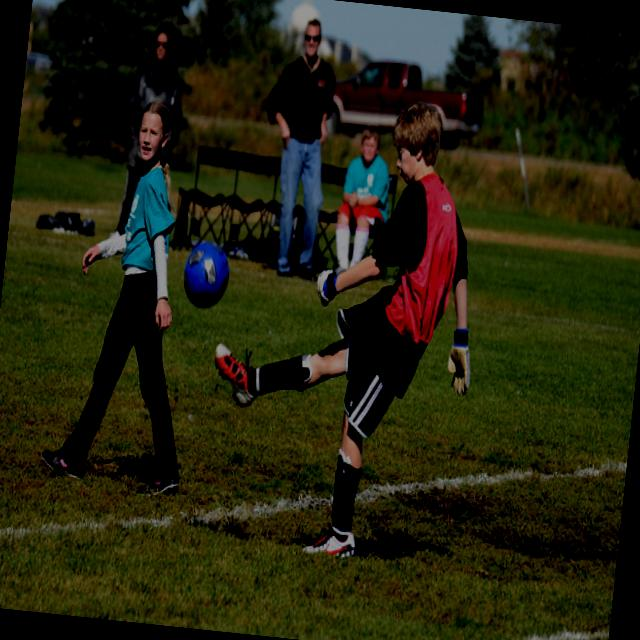Vehicle: (319, 58, 487, 154)
